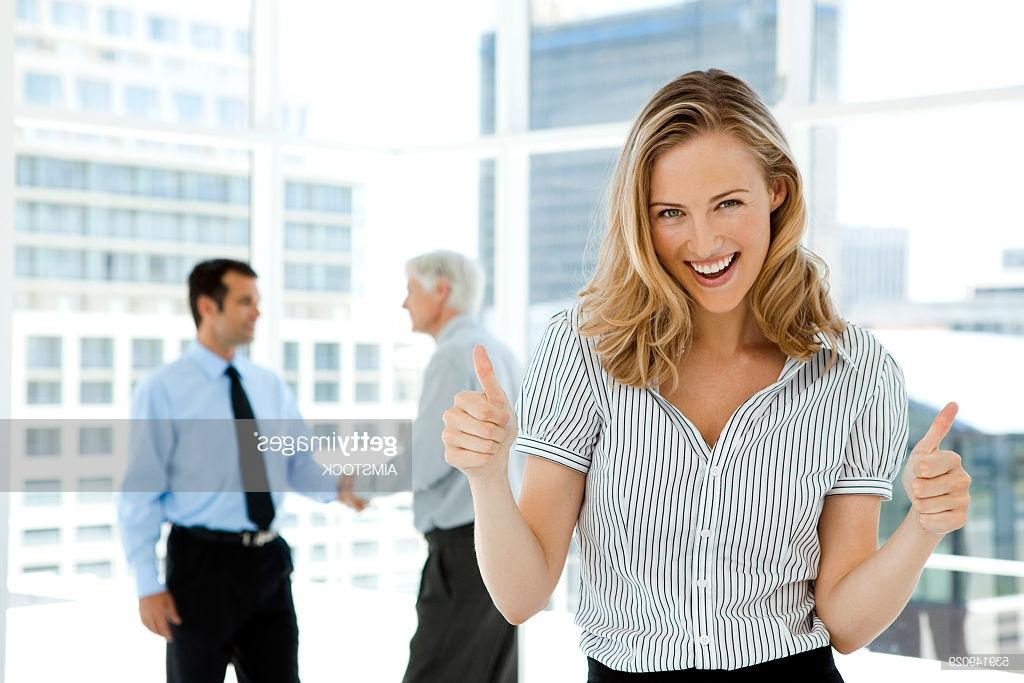thumbsup: (441, 345, 511, 468), (908, 402, 972, 534)
